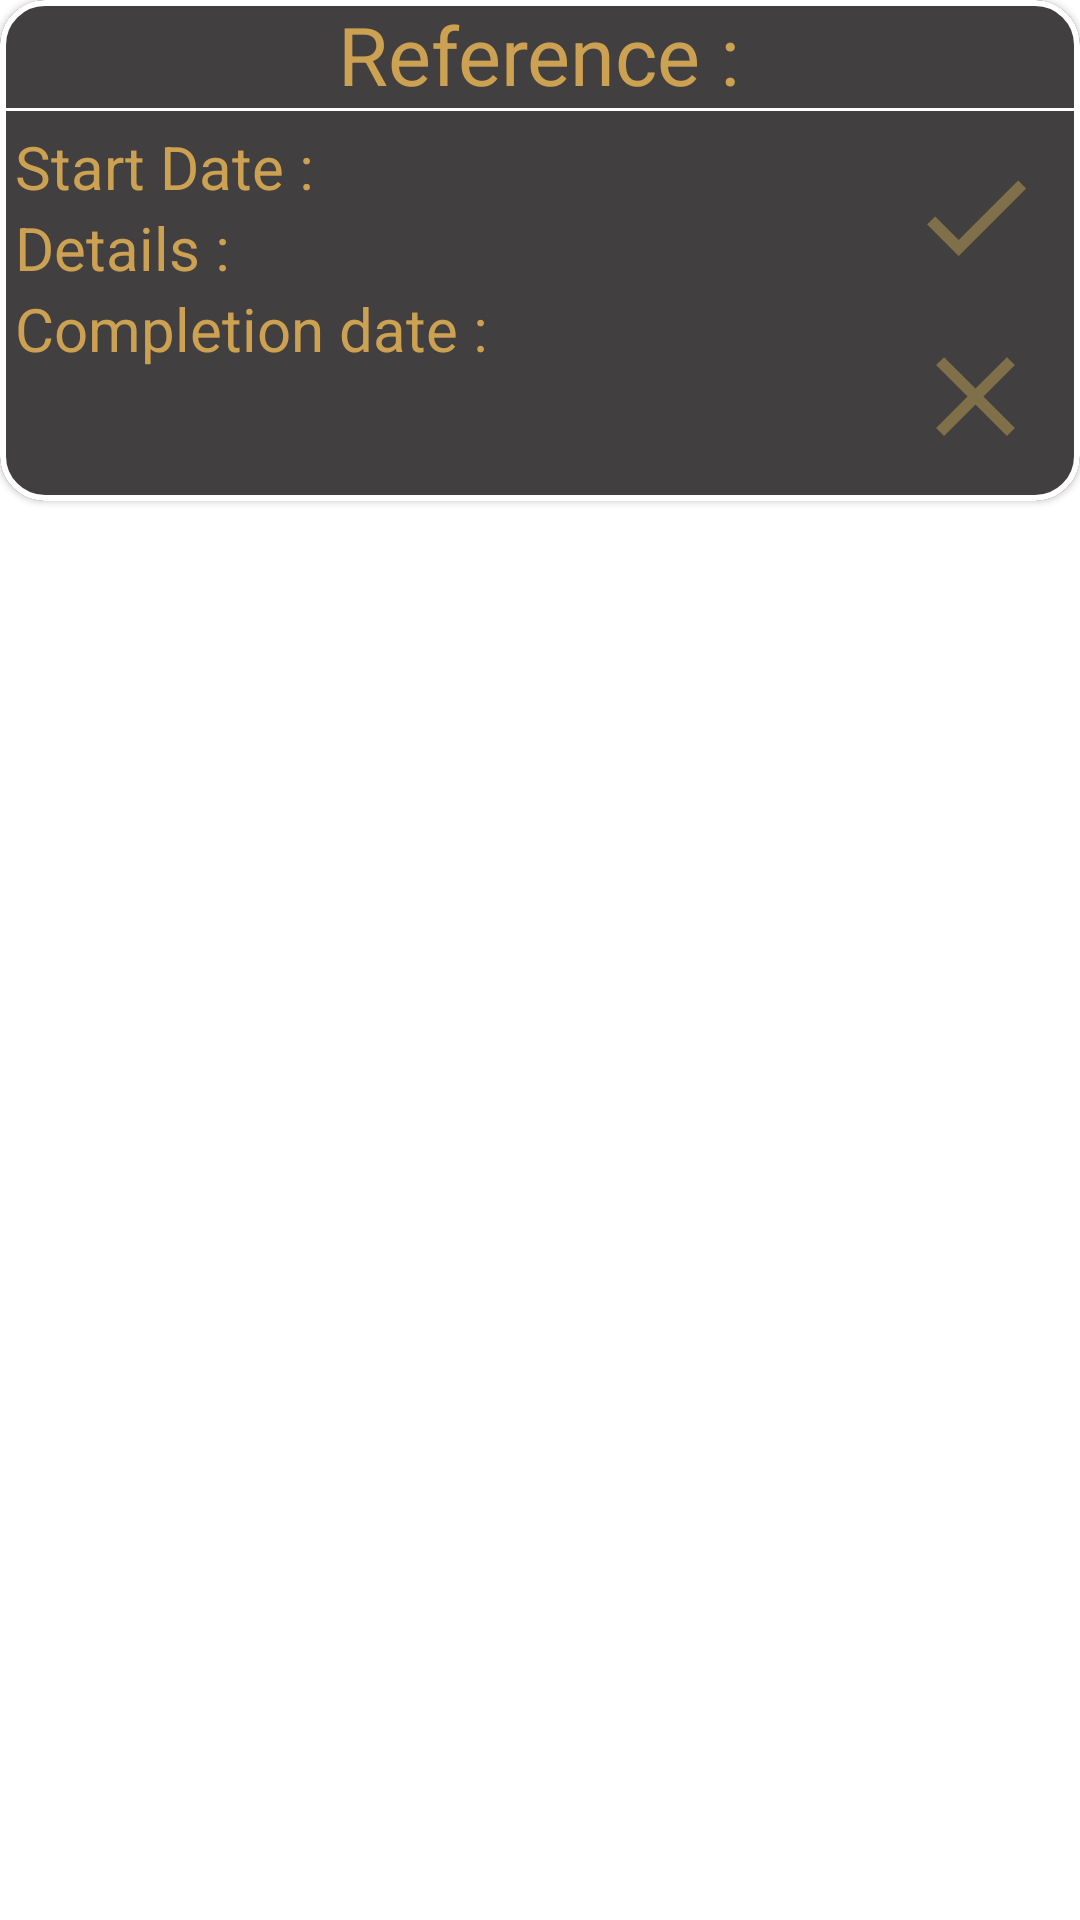

Locate icon controls on the screen. Image size 1080px×1920px, boxes as (x1, y1, x2, y2).
check: (927, 181, 1026, 256)
close: (936, 358, 1015, 436)
